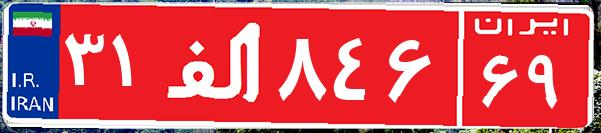1: (110, 28, 158, 105)
3: (57, 26, 110, 107)
4: (330, 28, 385, 110)
6: (385, 28, 445, 110), (475, 38, 525, 113)
8: (273, 28, 330, 110)
9: (525, 38, 570, 115)
الف: (158, 15, 273, 115)
